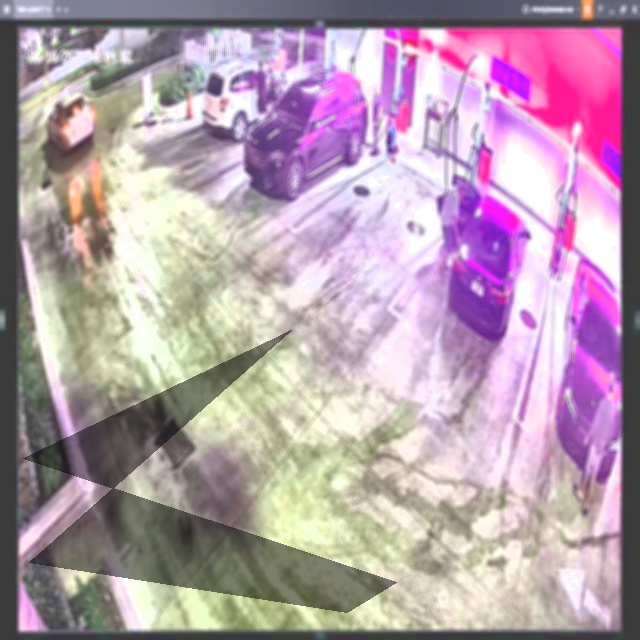Car: (244, 74, 368, 199), (453, 172, 529, 338)
